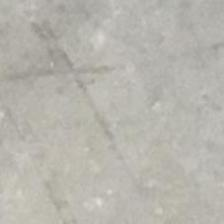Non_Crack: (22, 31, 184, 204)
